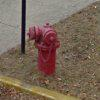Hydrant: (15, 11, 64, 85)
